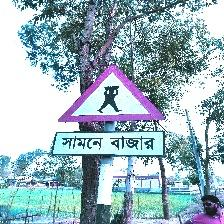Market-in-front: (55, 63, 167, 159)
